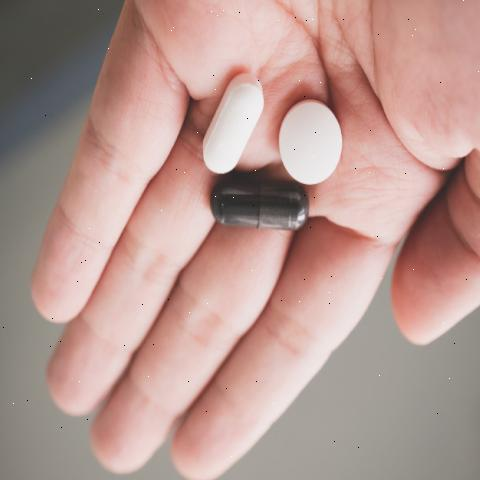Pill: (192, 48, 264, 181), (270, 88, 350, 191)
